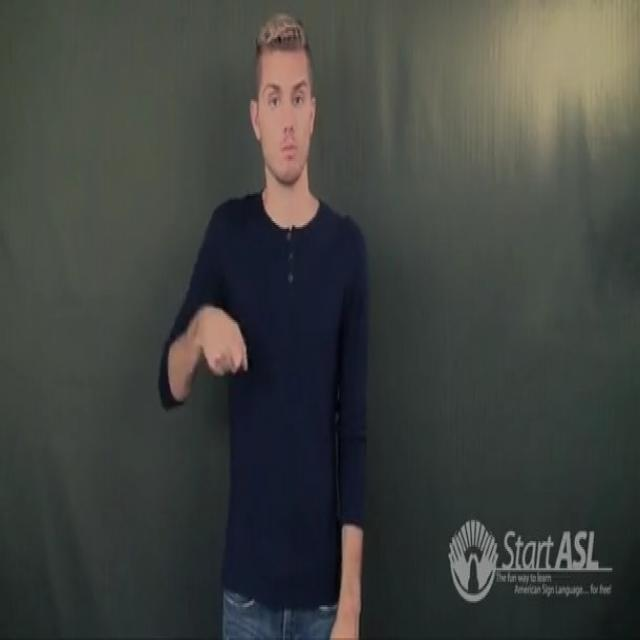bag: (150, 291, 256, 424)
